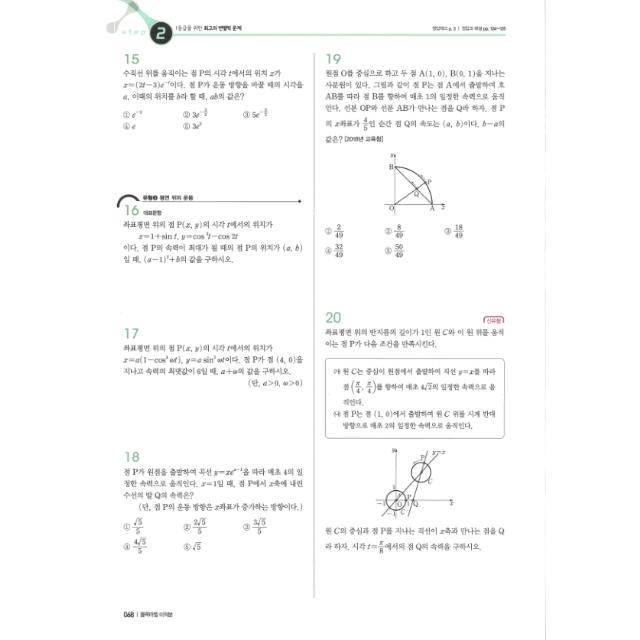multiple: (319, 47, 511, 263), (114, 440, 310, 564), (115, 44, 308, 138)
short: (317, 303, 518, 567), (106, 183, 310, 274), (115, 321, 307, 397)
